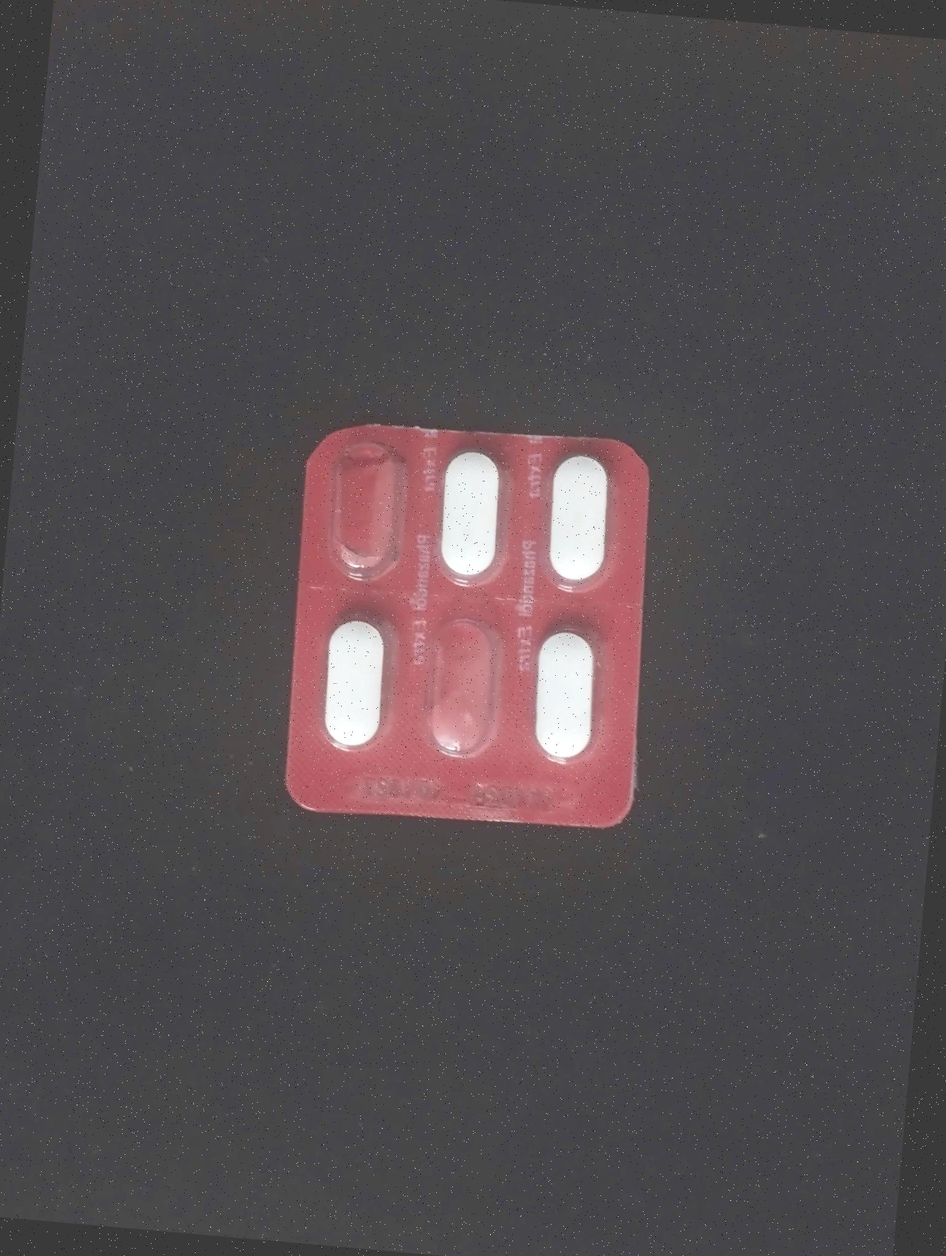Empty: (318, 431, 409, 581), (426, 623, 502, 760)
Full: (534, 448, 623, 593), (315, 606, 398, 753), (433, 449, 510, 588), (534, 623, 603, 764)
